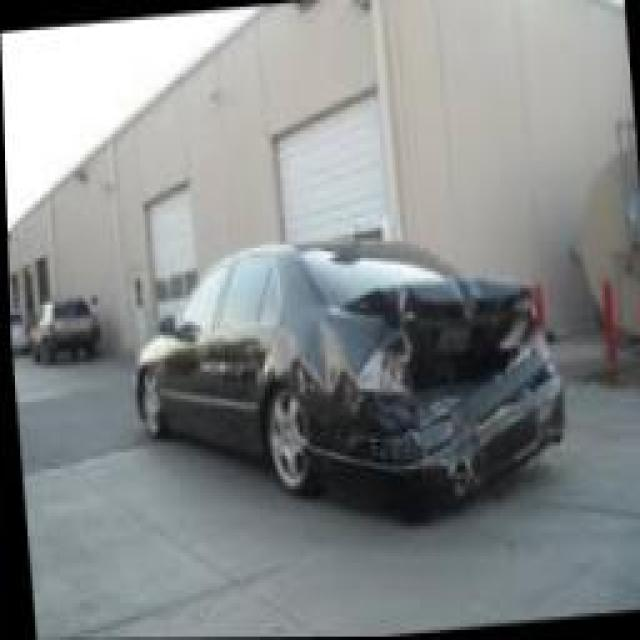Bumper: (305, 359, 567, 517)
Dickey: (337, 275, 538, 396)
Light: (350, 330, 401, 394)
